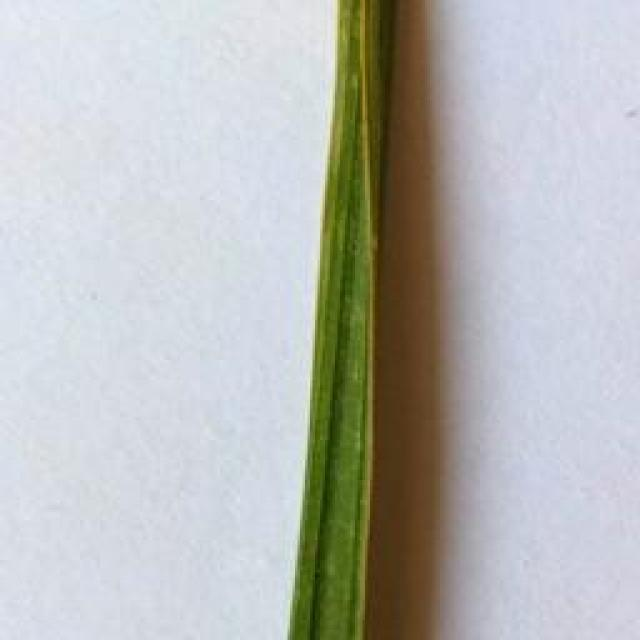Healthy-Plant: (293, 3, 403, 640)
